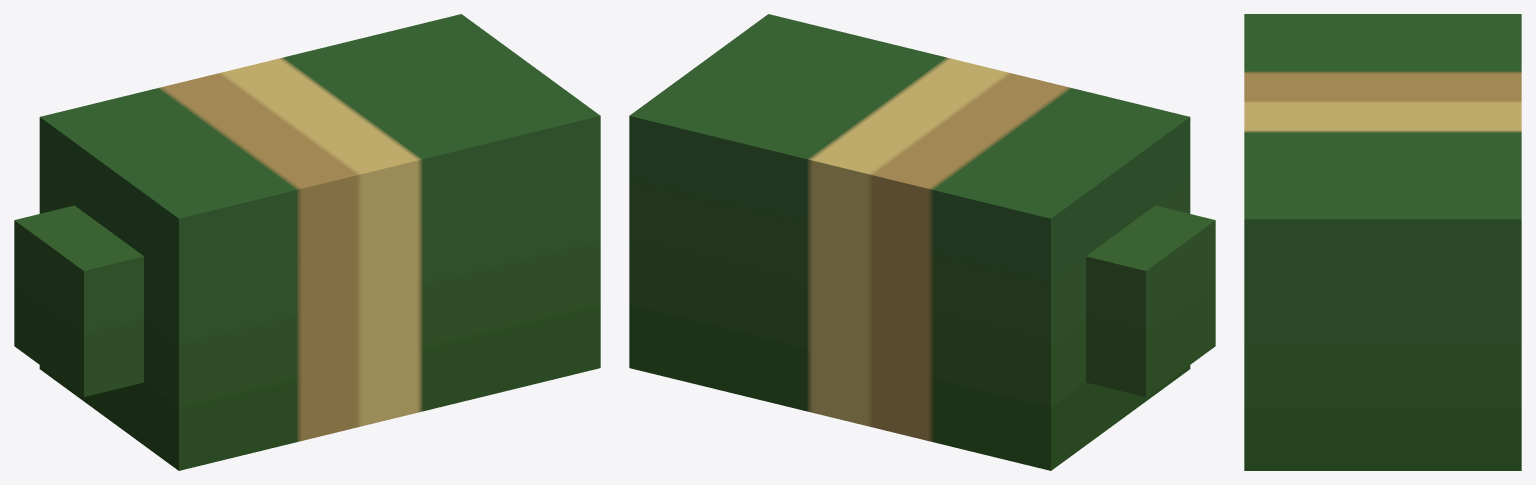
Rendered from Shoulder066.fbx.
3 renders of one model, left to right at view 1: azimuth 30°, elevation 25°; view 2: azimuth 150°, elevation 25°; view 3: azimuth 270°, elevation 25°, orthographic.
Parts seen in each view (by area): view 1: Shoulder066; view 2: Shoulder066; view 3: Shoulder066.
Boxes of the visible parts, left/top/right/bottom form: Shoulder066: left=14, top=14, right=600, bottom=470; Shoulder066: left=629, top=14, right=1215, bottom=470; Shoulder066: left=1244, top=14, right=1521, bottom=470.
Bounding box in the file's own units: 8 × 4 × 4.
